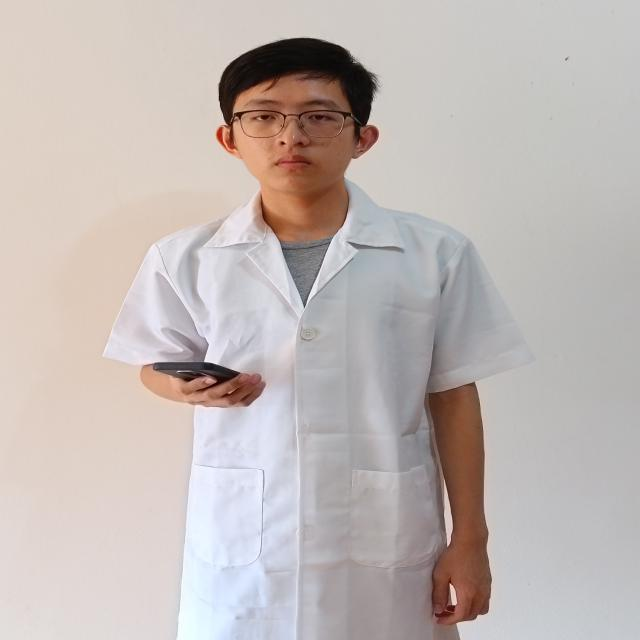person_with_labcoat: (105, 38, 531, 640)
